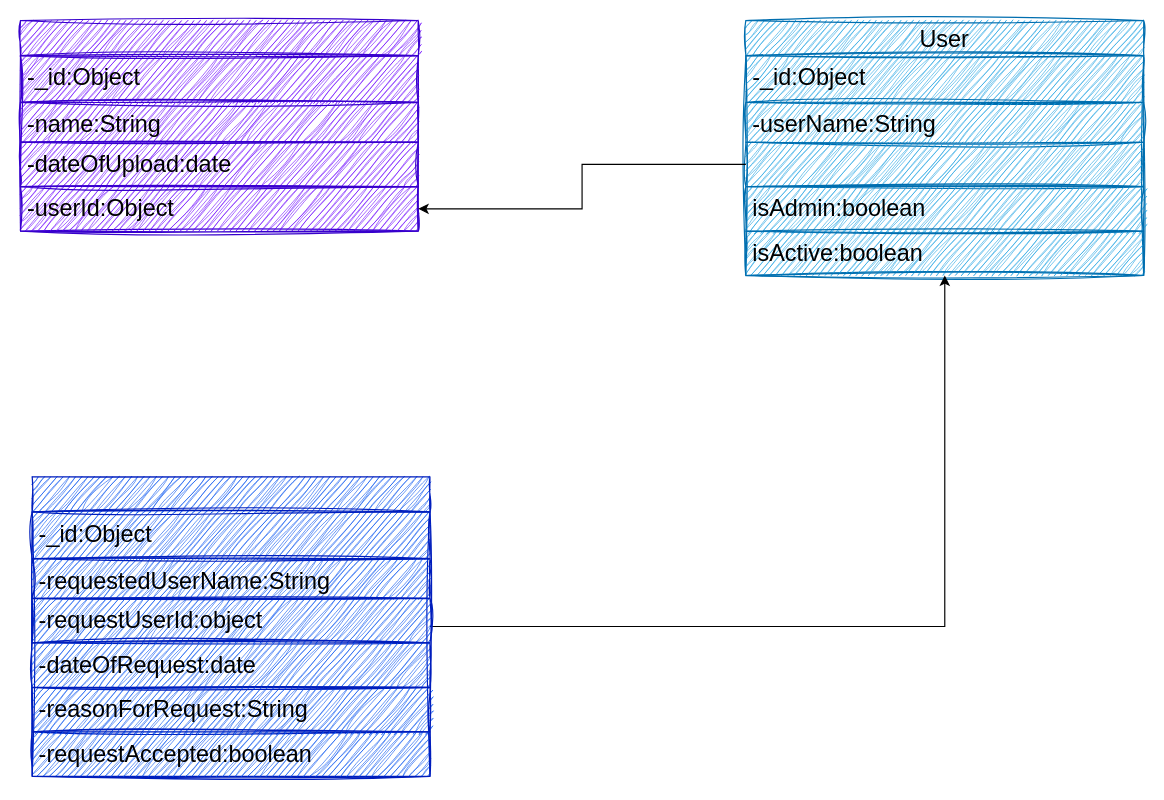
Image size: 1164x800. Some labels were removed from this diagram. The shapes that lost their labels are listed below. From the top down, each one's box as (x1, y1, x2, y2) in pixels, then its label:
(19, 19, 418, 231): Video
(745, 141, 1144, 187): -password_digest:String
(31, 476, 430, 776): AdminRequest
